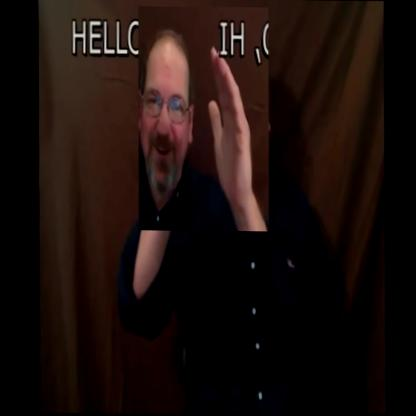Hello: (134, 5, 272, 232)
